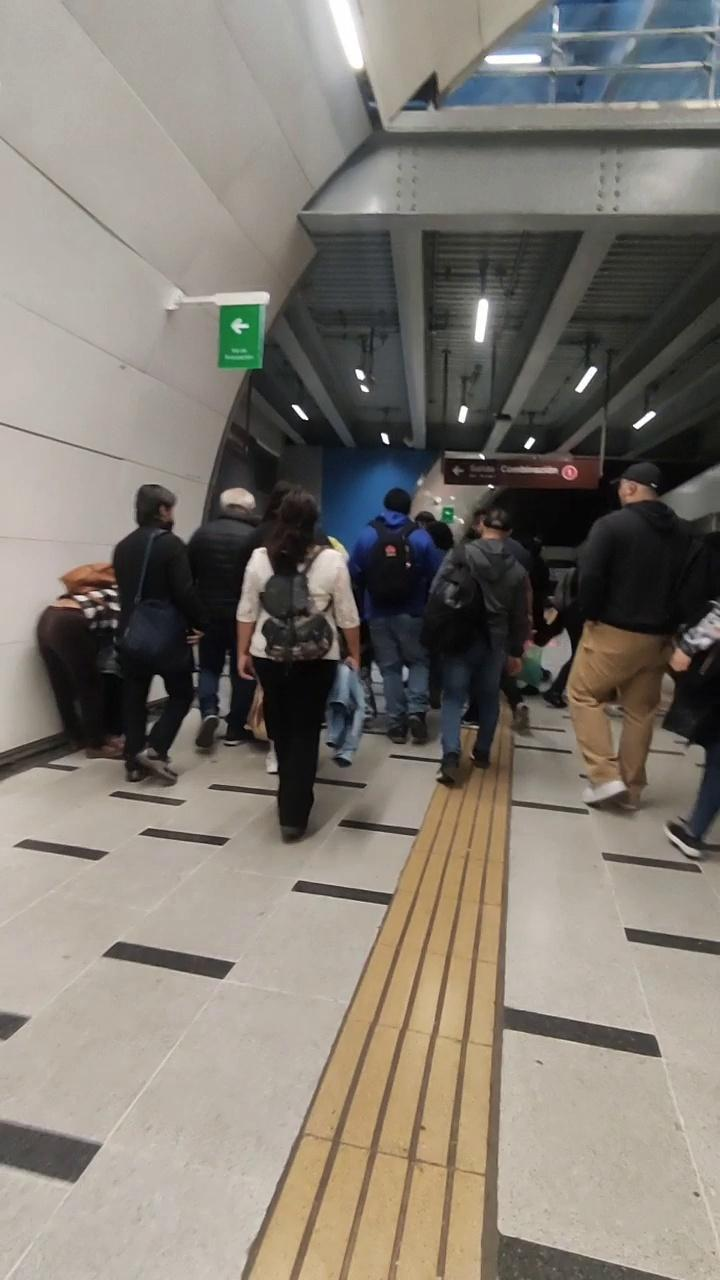left arrow: (452, 462, 469, 482)
